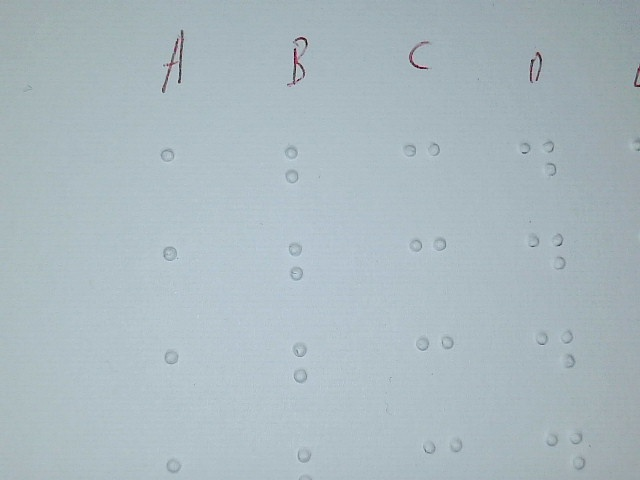A: (153, 138, 212, 235), (152, 236, 211, 333), (154, 340, 213, 437)
B: (278, 233, 339, 322), (275, 135, 336, 224), (283, 332, 344, 421)
C: (395, 133, 450, 216), (401, 227, 456, 310), (407, 324, 462, 407)
